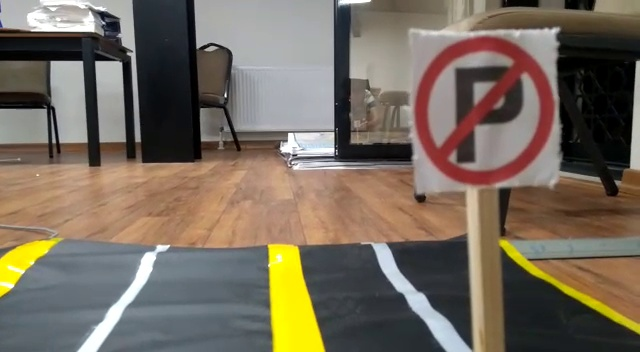park_yapilmaz: (408, 32, 561, 183)
